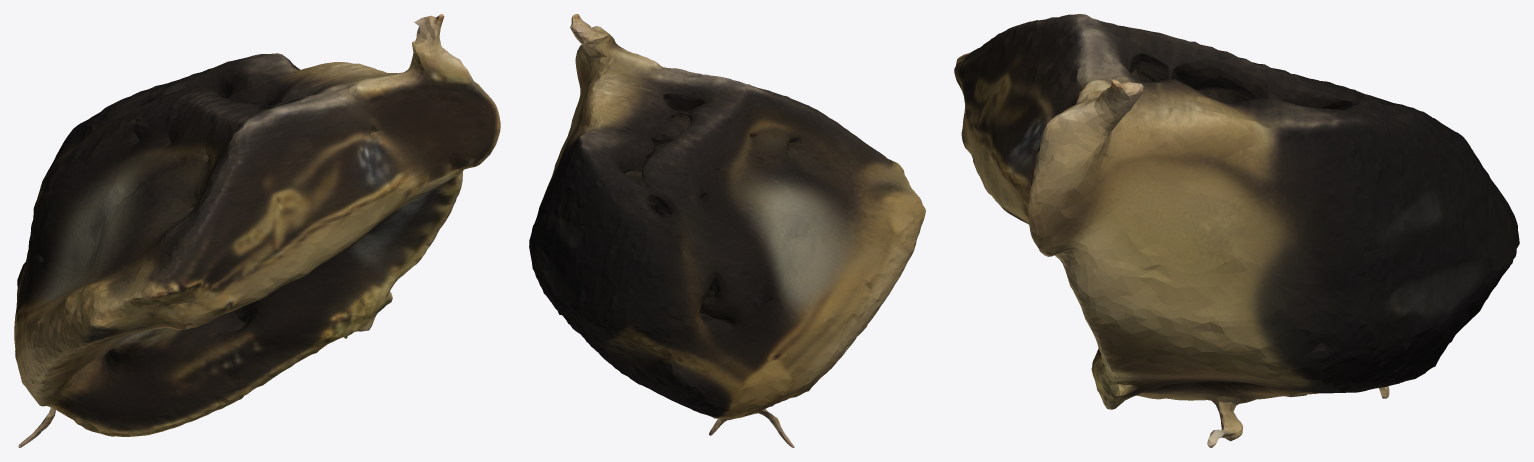
The model's file is IMG_SEG_25.glb.
3 views of the same model, side by side, from view 1: azimuth 30°, elevation 25°; view 2: azimuth 150°, elevation 25°; view 3: azimuth 270°, elevation 25° (orthographic). The views are drawn at different scales.
Size of the model in its own units: 0.8765 by 0.7955 by 0.7936.
1 material, 1 textured.
